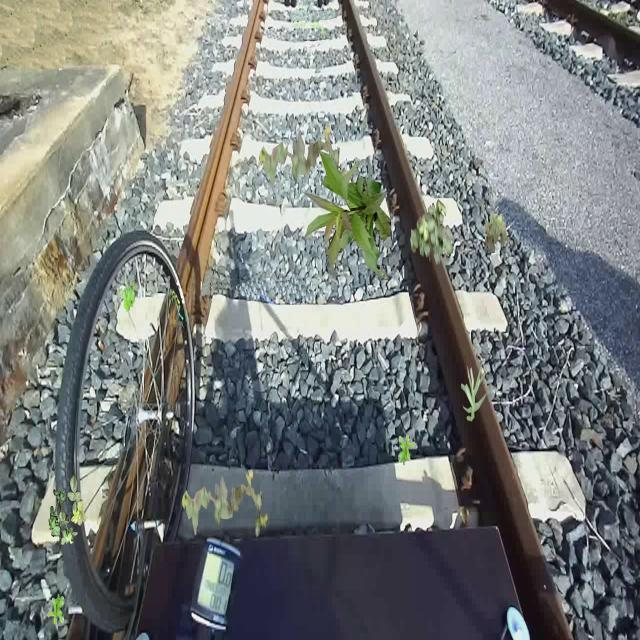Plant: (303, 151, 392, 281), (259, 125, 346, 194), (181, 469, 268, 538), (410, 199, 453, 266), (49, 475, 86, 548), (461, 366, 488, 422), (484, 211, 510, 254), (116, 279, 136, 312), (398, 433, 416, 465), (47, 594, 64, 626)
